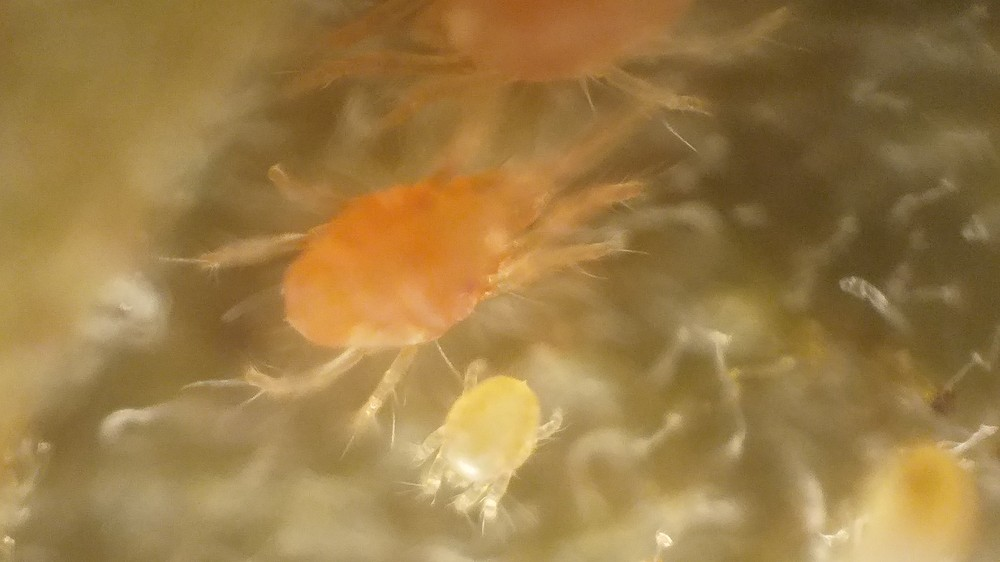Aracnido Rojo: (199, 134, 736, 402), (275, 3, 817, 152), (398, 354, 581, 541)
